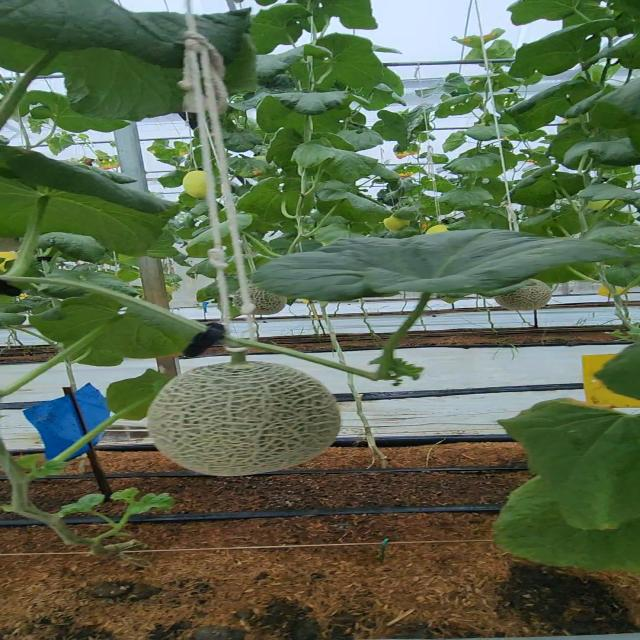Front-melon: (149, 363, 348, 479)
Rear-melon: (500, 285, 553, 311), (184, 174, 211, 196)
